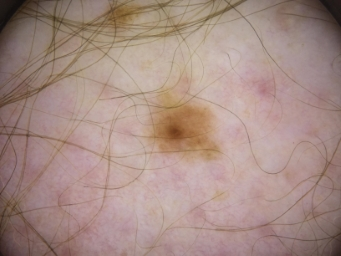melanoma: (130, 88, 219, 156)
